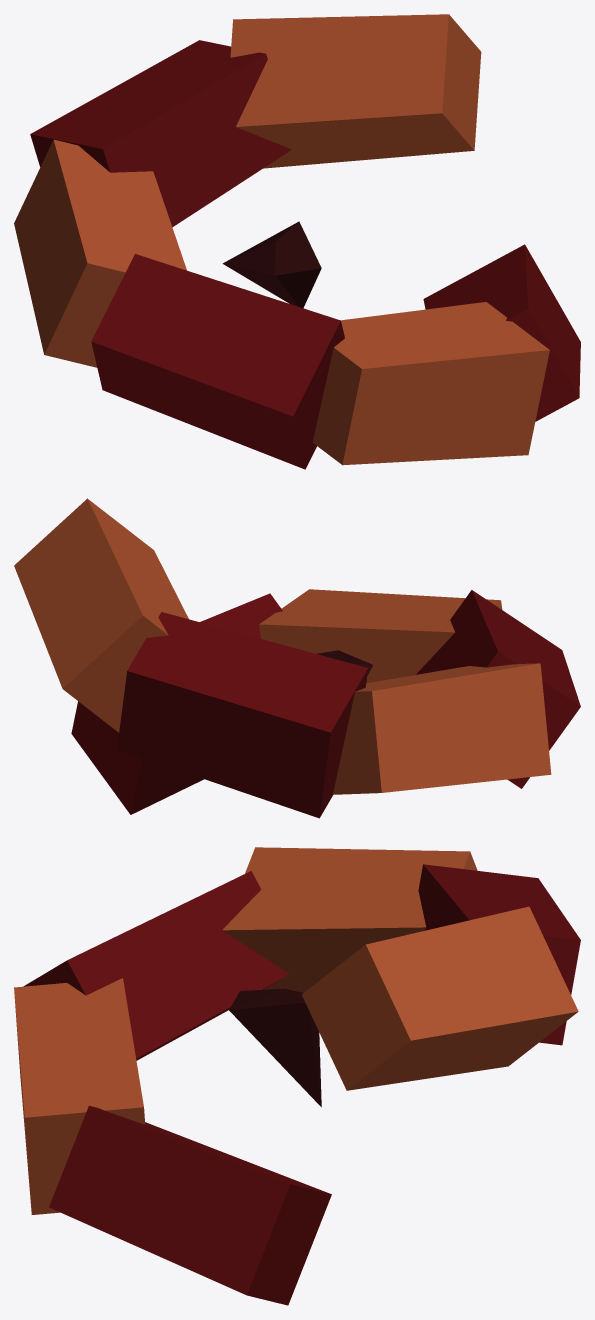
Rendered from gib_07.glb.
3 renders of one model, top to bottom at view 1: azimuth 30°, elevation 25°; view 2: azimuth 150°, elevation 25°; view 3: azimuth 270°, elevation 25°, orthographic. The views are drawn at different scales.
Visible parts, largest first — view 1: gib_07; view 2: gib_07; view 3: gib_07.
Part boxes in pixels (x1,y1,x2,y2): gib_07: [14, 14, 580, 469]; gib_07: [14, 498, 580, 818]; gib_07: [14, 847, 580, 1305].
Bounding box in the file's own units: 0.18 × 0.1177 × 0.1658.
